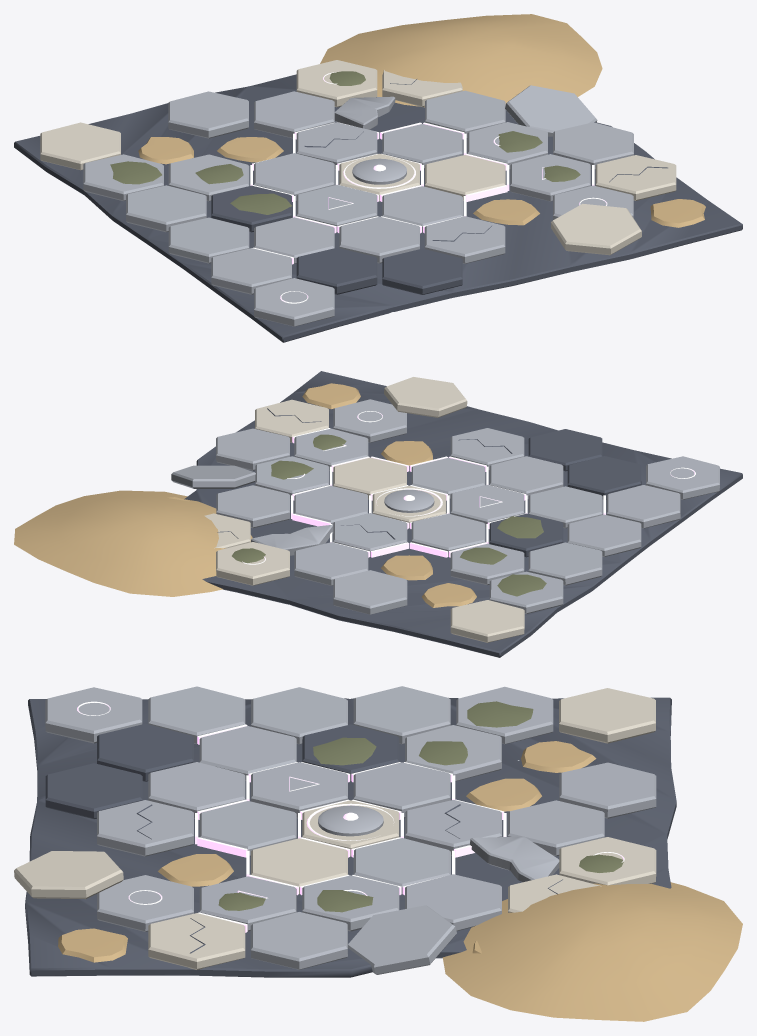
The model's file is deco_glyph_floor.fbx.
3 renders of one model, top to bottom at view 1: azimuth 30°, elevation 25°; view 2: azimuth 150°, elevation 25°; view 3: azimuth 270°, elevation 25°, orthographic. The views are drawn at different scales.
Visible parts, largest first — view 1: GlyphFloor_Tiles, GlyphFloor_Bed, GlyphFloor_Loose, GlyphFloor_Channels; view 2: GlyphFloor_Tiles, GlyphFloor_Bed, GlyphFloor_Loose, GlyphFloor_Channels; view 3: GlyphFloor_Tiles, GlyphFloor_Bed, GlyphFloor_Loose, GlyphFloor_Channels.
Boxes of the visible parts, x1,y1,x2,y2 form: GlyphFloor_Tiles: [40, 60, 676, 326]; GlyphFloor_Bed: [14, 14, 742, 342]; GlyphFloor_Loose: [334, 85, 641, 255]; GlyphFloor_Channels: [250, 72, 607, 303]; GlyphFloor_Tiles: [204, 399, 719, 642]; GlyphFloor_Bed: [14, 371, 742, 657]; GlyphFloor_Loose: [171, 377, 467, 555]; GlyphFloor_Channels: [242, 411, 695, 564]; GlyphFloor_Tiles: [45, 686, 656, 969]; GlyphFloor_Bed: [25, 697, 742, 1021]; GlyphFloor_Loose: [14, 760, 559, 974]; GlyphFloor_Channels: [77, 701, 624, 932].
Size of the model in its own units: 458 by 24.32 by 443.
